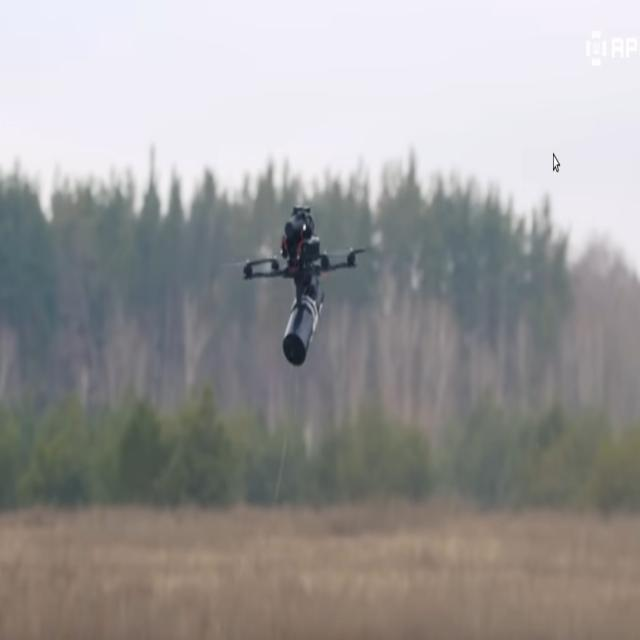drone: (229, 202, 377, 371)
